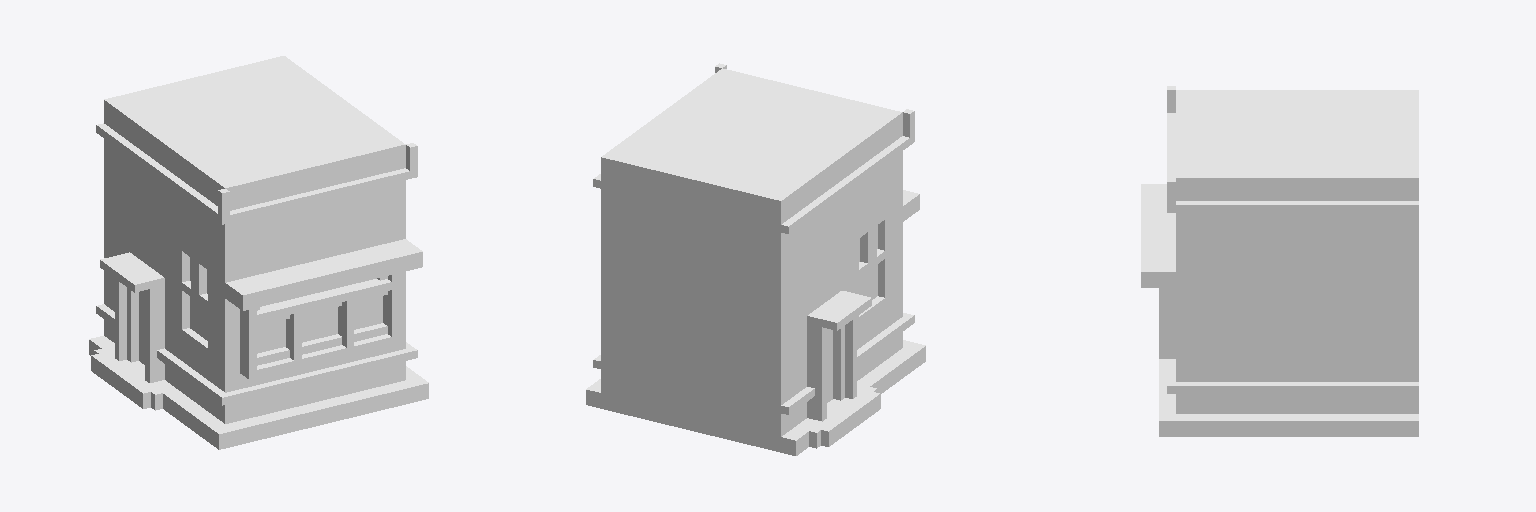
Rendered from tile_1_left_nr_90.obj.
3 renders of one model, left to right at view 1: azimuth 30°, elevation 25°; view 2: azimuth 150°, elevation 25°; view 3: azimuth 270°, elevation 25°, orthographic.
Parts seen in each view (by area): view 1: object 1; view 2: object 1; view 3: object 1.
Boxes of the visible parts, box(x1,y1,x2,y2) form: object 1: box(89, 56, 428, 449); object 1: box(586, 63, 925, 455); object 1: box(1141, 86, 1418, 436).
Bounding box in the file's own units: 3 × 3.2 × 3.2.